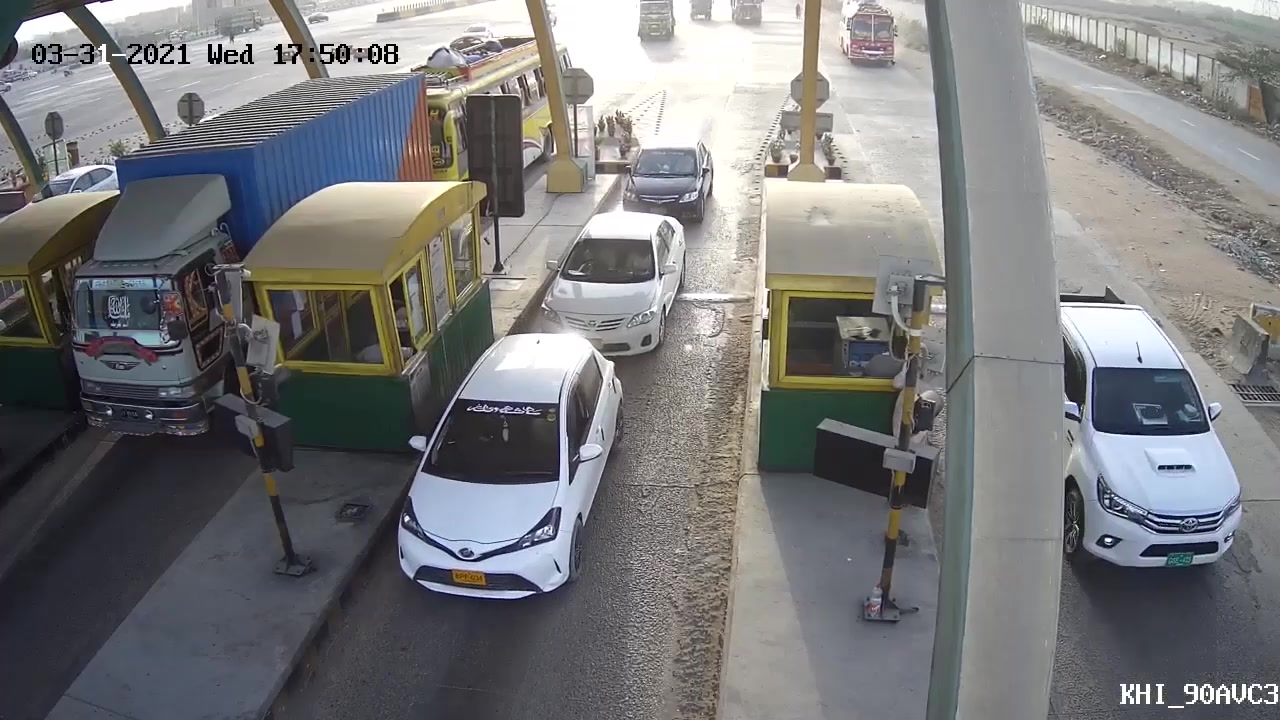F1: (392, 331, 630, 613), (531, 208, 691, 357), (620, 133, 721, 226)
